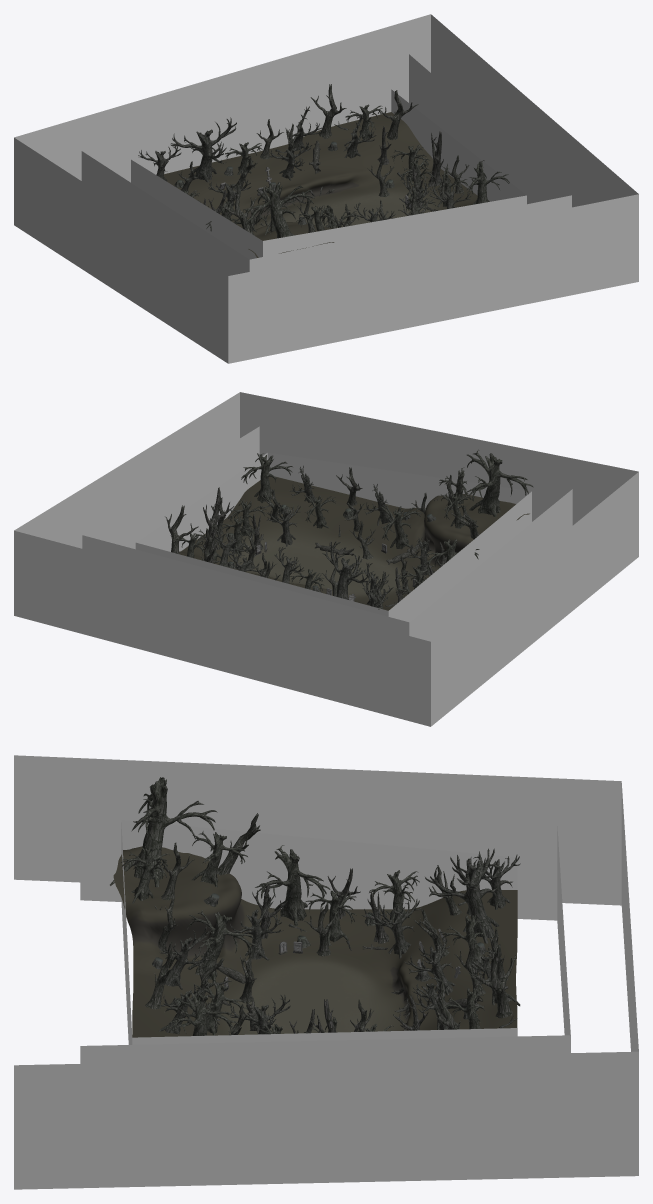
File: AreaDeadForest.fbx
3 views of the same model, one above another, from view 1: azimuth 30°, elevation 25°; view 2: azimuth 150°, elevation 25°; view 3: azimuth 270°, elevation 25° (orthographic). The views are drawn at different scales.
Parts seen in each view (by area): view 1: Плоскость.003, Плоскость.002, DarkTree2.013, DarkTree1.003, DarkTree2.010, DarkTree1.002, DarkTree4.019, DarkTree3.016; view 2: Плоскость.003, Плоскость.002, DarkTree2.013, DarkTree1.003, DarkTree2.010, DarkTree2.009, DarkTree1.005; view 3: Плоскость.003, Плоскость.002, DarkTree2.013, DarkTree1.003, DarkTree2.007, DarkTree2.009, DarkTree2.010, DarkTree1.008, DarkTree1.007, DarkTree2.014, DarkTree2.005, DarkTree4.019 (+14 smaller).
Part boxes in pixels (x1,y1,x2,y2): Плоскость.003: (14, 14, 638, 363); Плоскость.002: (164, 112, 477, 257); DarkTree2.013: (243, 182, 314, 249); DarkTree1.003: (170, 117, 236, 182); DarkTree2.010: (466, 160, 509, 204); DarkTree1.002: (269, 142, 312, 180); DarkTree4.019: (310, 84, 346, 138); DarkTree3.016: (428, 131, 443, 186); Плоскость.003: (14, 392, 638, 726); Плоскость.002: (179, 476, 529, 610); DarkTree2.013: (466, 449, 533, 516); DarkTree1.003: (322, 541, 369, 599); DarkTree2.010: (241, 453, 292, 504); DarkTree2.009: (380, 505, 421, 549); DarkTree1.005: (266, 505, 300, 546); Плоскость.003: (14, 755, 638, 1189); Плоскость.002: (113, 846, 517, 1037); DarkTree2.013: (110, 777, 217, 887); DarkTree1.003: (424, 848, 499, 943); DarkTree2.007: (255, 845, 330, 925); DarkTree2.009: (187, 910, 256, 982); DarkTree2.010: (168, 991, 238, 1035); DarkTree1.008: (368, 899, 420, 958); DarkTree1.007: (230, 893, 283, 960); DarkTree2.014: (121, 846, 169, 903); DarkTree2.005: (191, 831, 247, 887); DarkTree4.019: (471, 944, 516, 1018).
Size of the model in its own units: 14859 by 4554 by 13409.
